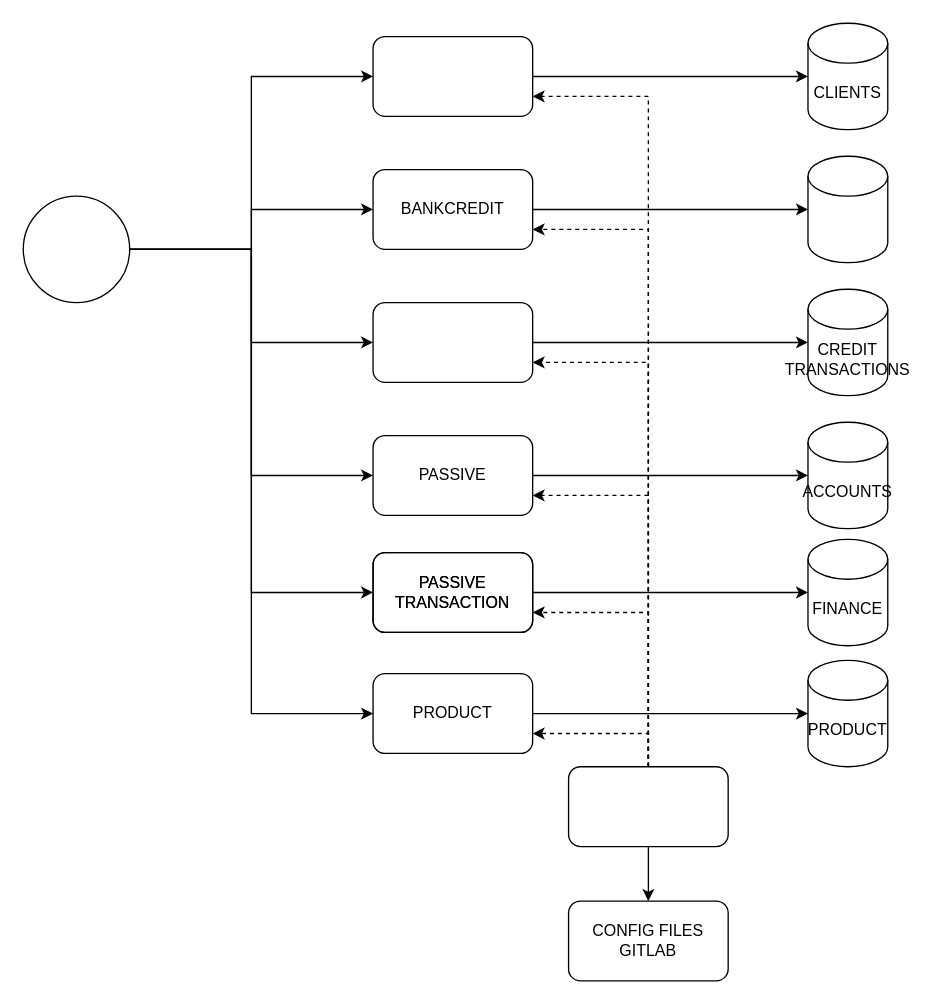
This 934x1004 diagram has some shape labels left out. Here are the shapes that lost their labels. From the top down, the centre of each, then its label:
At [452,75]: "BANK".
At [847,209]: "CREDITS".
At [76,249]: "POSTMAN".
At [452,341]: "BANKCREDIT TRANSACTION".
At [647,806]: "CONFIG SERVER".
